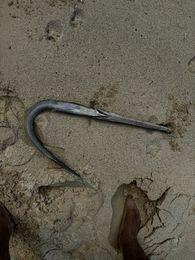Fistularia commersonii: (17, 73, 171, 170)
